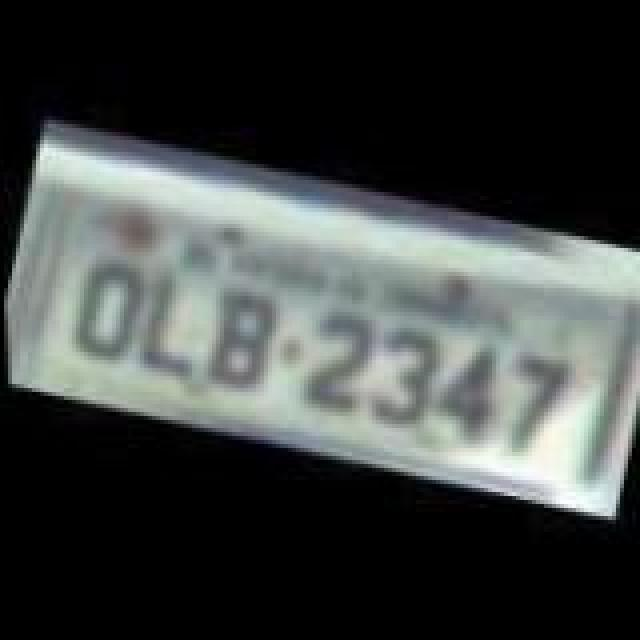2: (282, 292, 386, 424)
3: (344, 306, 436, 438)
4: (414, 322, 510, 450)
7: (482, 338, 574, 470)
B: (192, 274, 280, 402)
L: (128, 256, 216, 380)
O: (56, 246, 152, 370)
